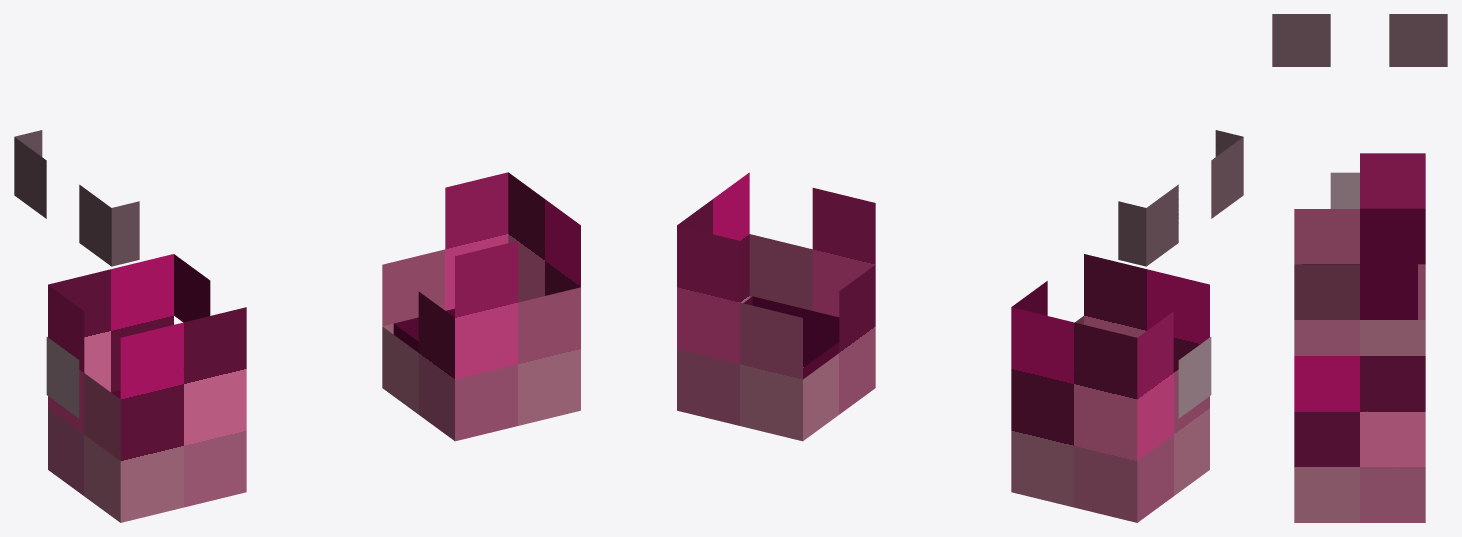
The model's file is sl_heart_fire_fists.glb.
3 views of the same model, side by side, from view 1: azimuth 30°, elevation 25°; view 2: azimuth 150°, elevation 25°; view 3: azimuth 270°, elevation 25° (orthographic). The views are drawn at different scales.
Visible parts, largest first — view 1: bb_heart_fire_fists; view 2: bb_heart_fire_fists; view 3: bb_heart_fire_fists.
Boxes of the visible parts, box(x1,y1,x2,y2) form: bb_heart_fire_fists: box(14, 130, 580, 522); bb_heart_fire_fists: box(677, 130, 1243, 522); bb_heart_fire_fists: box(1272, 14, 1447, 522).
Bounding box in the file's own units: 1.13 × 0.7053 × 0.3781.
1 material, 1 textured.
